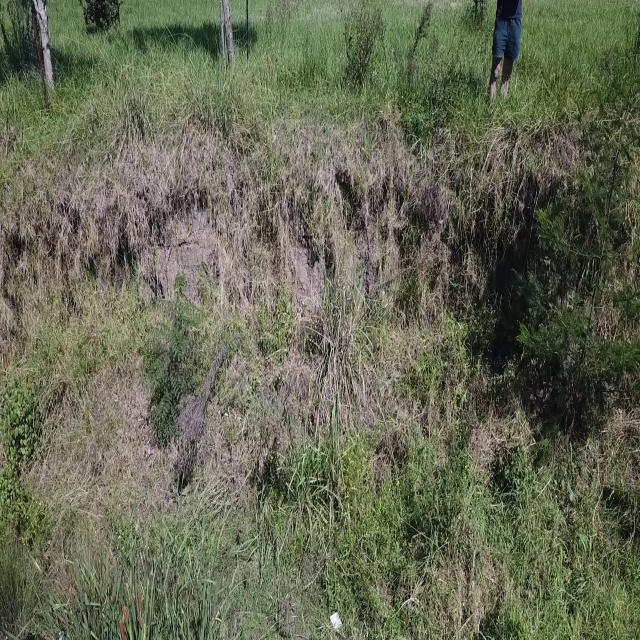Mysore-Thorn-Weed: (144, 270, 207, 447)
